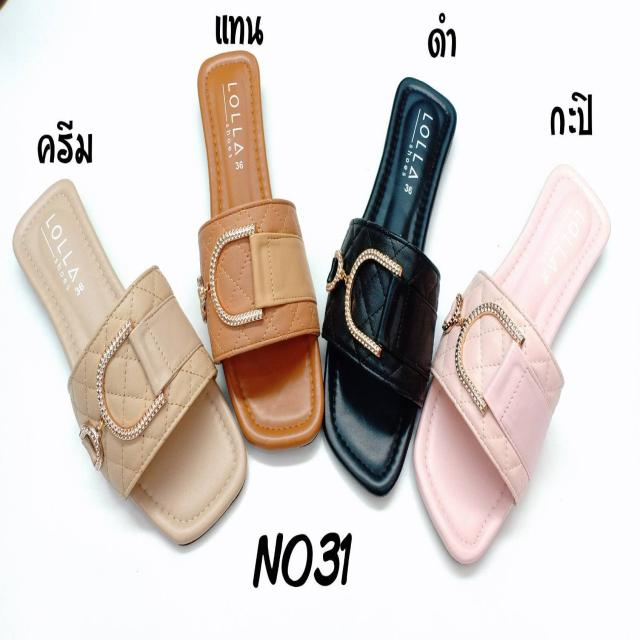black: (322, 74, 455, 484)
cream: (13, 181, 240, 547)
kapi: (415, 166, 613, 559)
tan: (198, 54, 323, 446)
